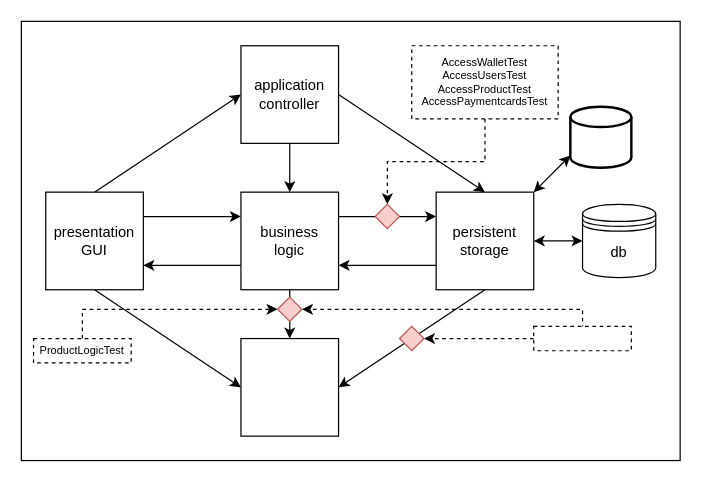
Some shapes in this 702 by 482 pixel diagram are drawn without their labels. The shapes that lost their labels are listed below. From the top down, each one's centre as x and y in pixels, then its label:
point 600,136: stub db
point 582,338: PingChatTest
point 289,386: domain-specific objects
